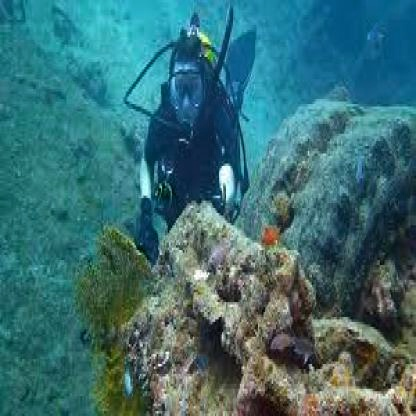tire: (290, 92, 416, 344)
